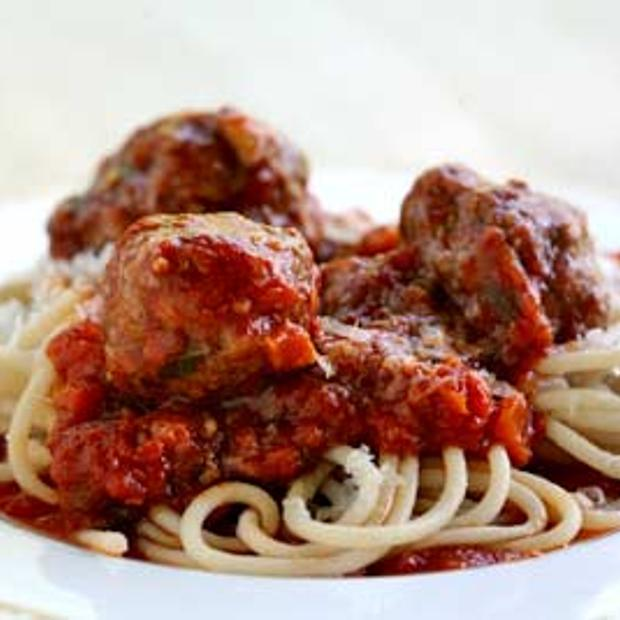meatballs: (118, 218, 311, 384), (416, 178, 595, 339), (114, 111, 306, 229)
plain spaghetti: (60, 439, 620, 558), (1, 274, 70, 490)
